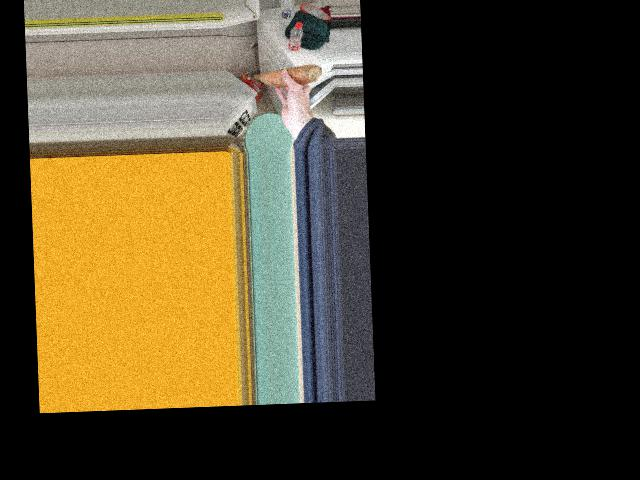sweet_potato: (260, 70, 313, 87)
